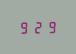nine: (18, 20, 30, 34), (45, 19, 57, 33)
two: (32, 20, 44, 33)
